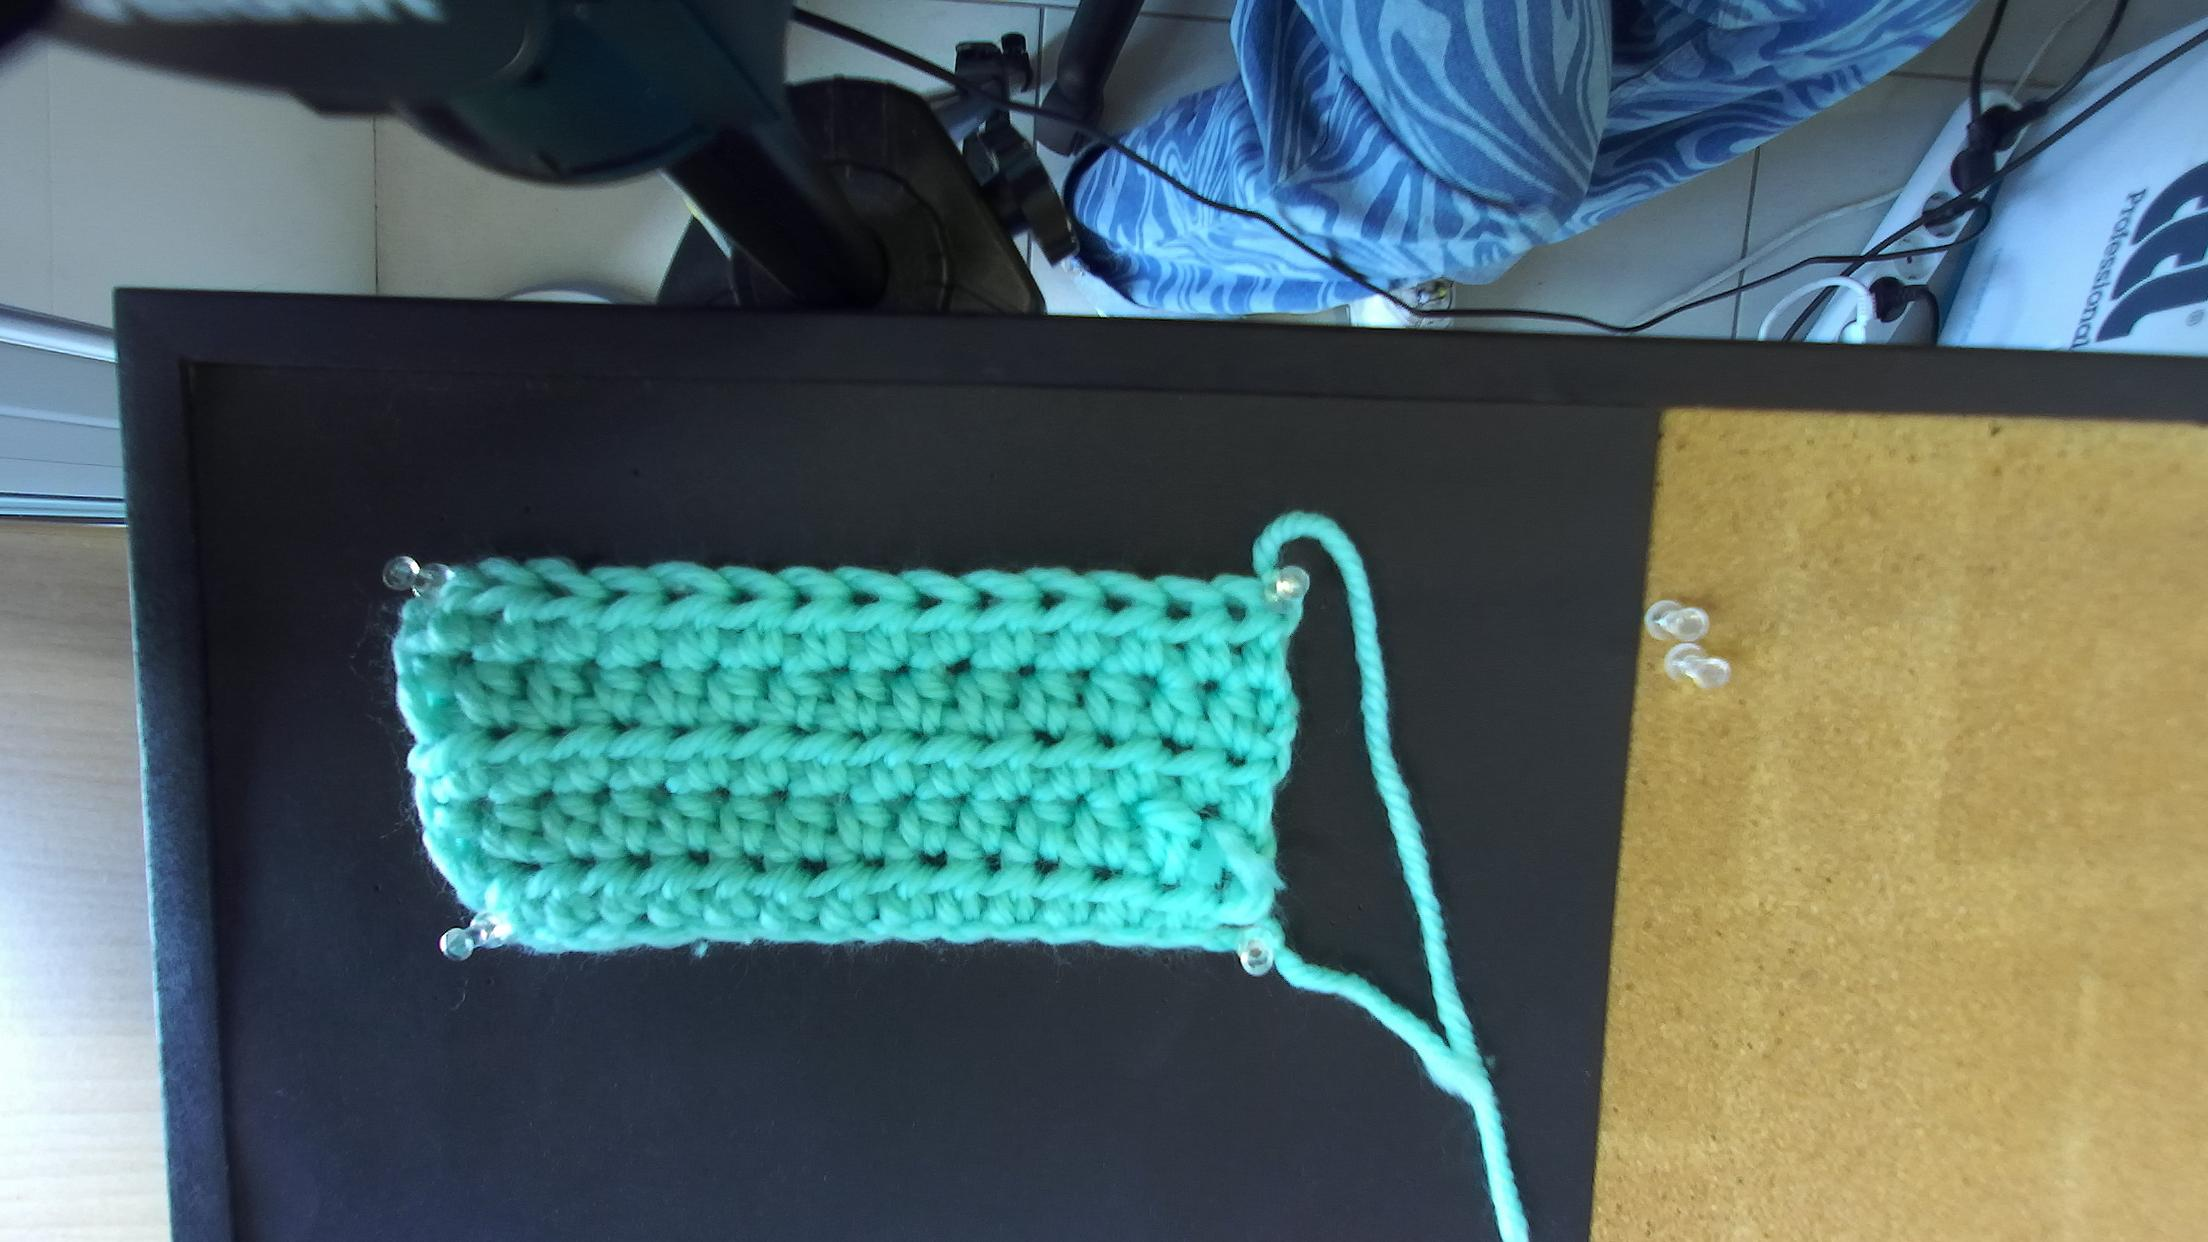hole: (904, 591, 945, 622), (961, 590, 1002, 614), (1099, 590, 1134, 616), (540, 579, 576, 604), (475, 575, 513, 597), (661, 585, 701, 607), (722, 588, 763, 608), (848, 588, 880, 611), (1166, 597, 1193, 623), (1039, 593, 1069, 616), (599, 587, 631, 608), (793, 590, 813, 611), (1227, 602, 1245, 625)
swatch: (387, 558, 1298, 957)
